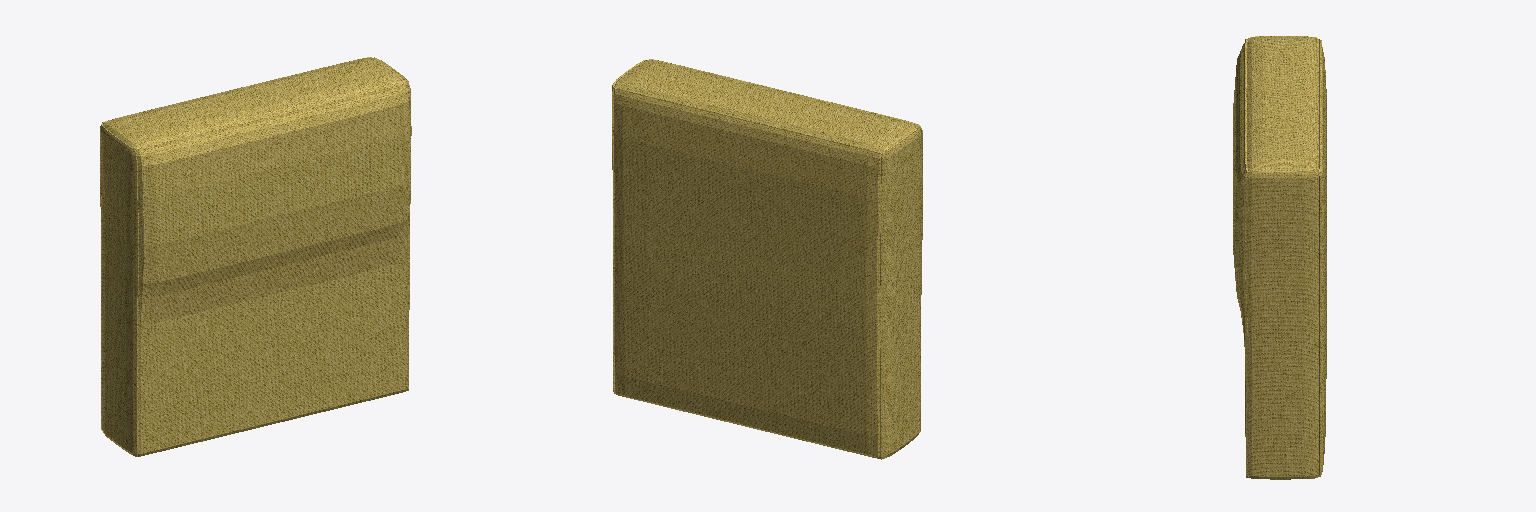
3 views of the same model, side by side, from view 1: azimuth 30°, elevation 25°; view 2: azimuth 150°, elevation 25°; view 3: azimuth 270°, elevation 25° (orthographic).
Visible parts, largest first — view 1: Box854; view 2: Box854; view 3: Box854.
Boxes of the visible parts, x1=… form: Box854: x1=100, y1=57, x2=411, y2=456; Box854: x1=612, y1=59, x2=922, y2=459; Box854: x1=1233, y1=36, x2=1326, y2=479.
Size of the model in its own units: 64.93 by 69.78 by 19.
1 materials, 1 textured.